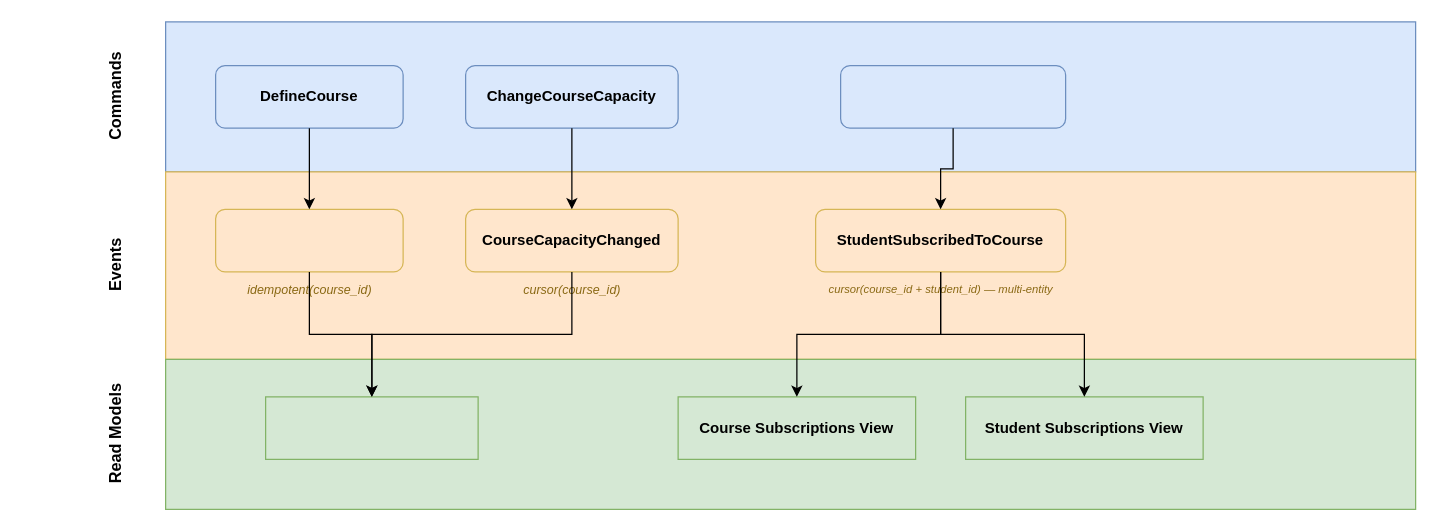
Image size: 1438x531. Some labels were removed from this diagram. The centre of each missing label's shape, as x and y in pixels:
Course Capacity View: the point at 371,427
CourseDefined: the point at 308,240
SubscribeStudentToCourse: the point at 952,96
